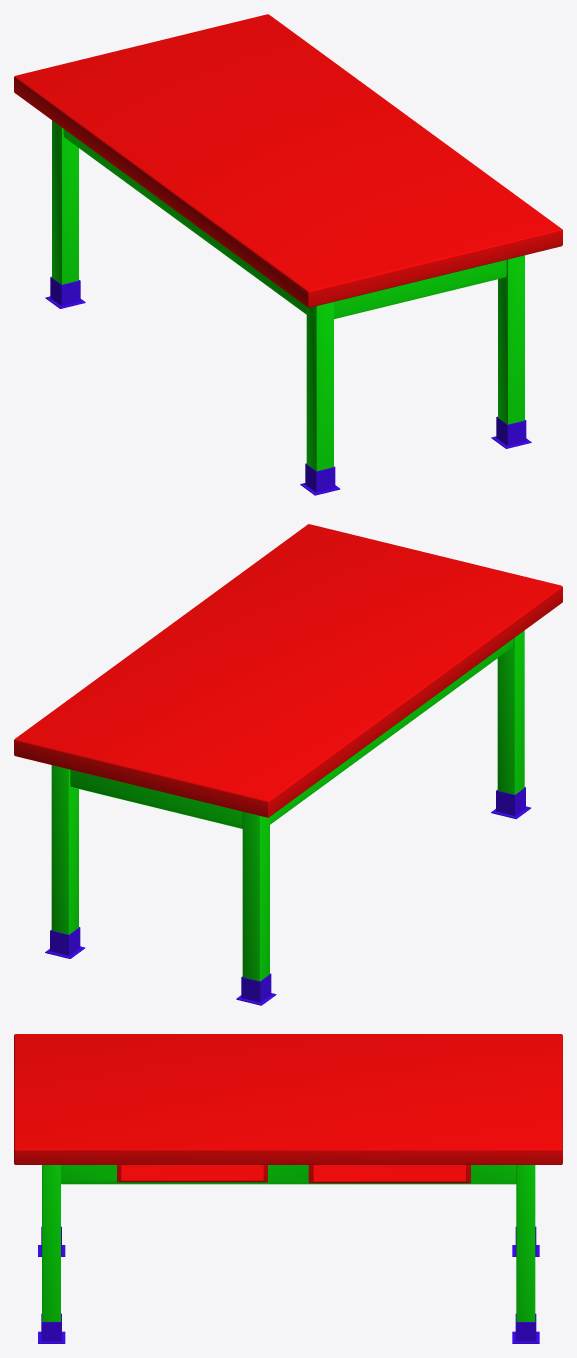
Rendered from Table_Texture_Ready.FBX.
3 renders of one model, top to bottom at view 1: azimuth 30°, elevation 25°; view 2: azimuth 150°, elevation 25°; view 3: azimuth 270°, elevation 25°, orthographic. The views are drawn at different scales.
Parts seen in each view (by area): view 1: Table; view 2: Table; view 3: Table.
Part boxes in pixels (<box>): Table: <box>14,14,562,495</box>; Table: <box>14,524,562,1005</box>; Table: <box>14,1034,562,1343</box>.
Bounding box in the file's own units: 20 × 16.35 × 40.
